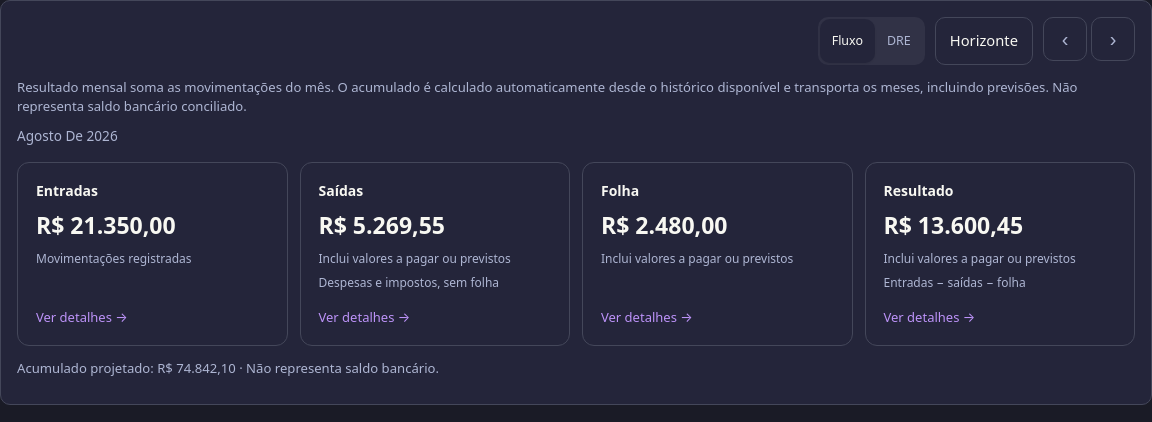
Test case: o selo de demonstração › ⚠ a visão do DRE não oferece exportar, imprimir nem baixar
Click the button "DRE" at [899, 41], box [875,19,923,63]
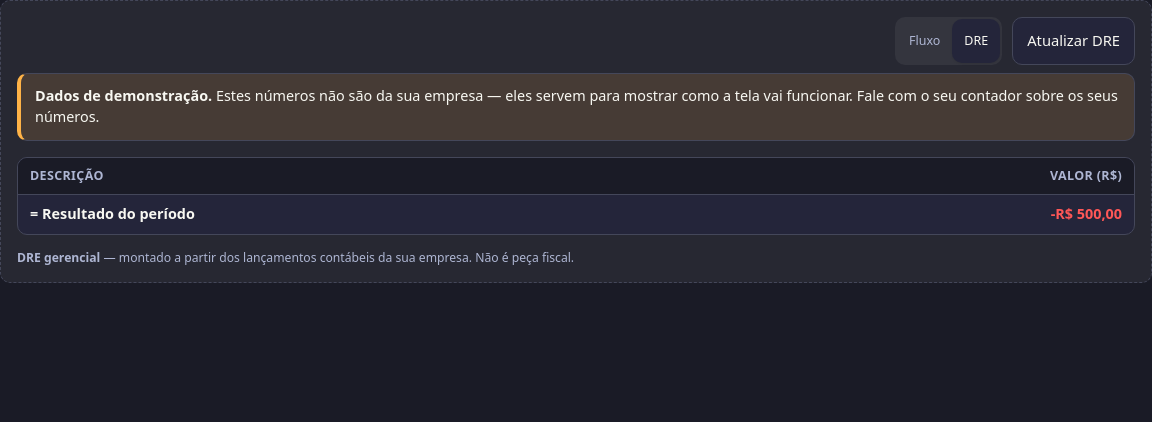
Now the buttons read "Fluxo", "DRE", "Atualizar DRE", in this order, box [897,19,952,63]; [952,19,1000,63]; [1012,17,1135,65]
